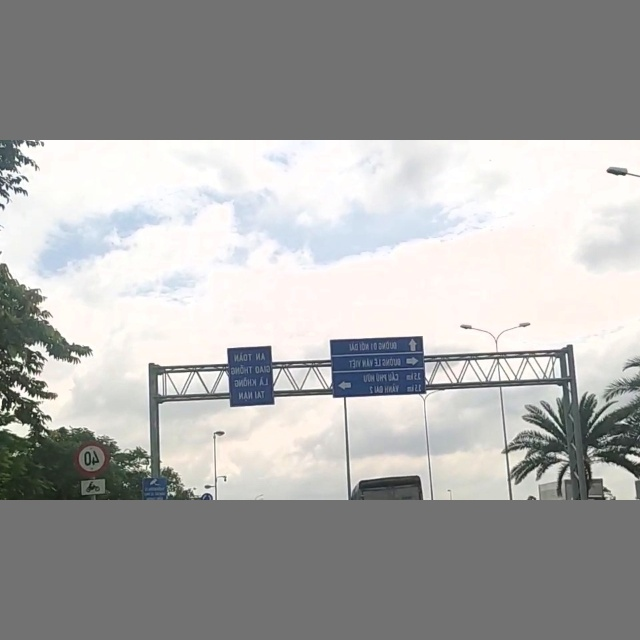P.127*40: (75, 439, 109, 476)
S.505a*Xe may: (79, 478, 107, 496)
